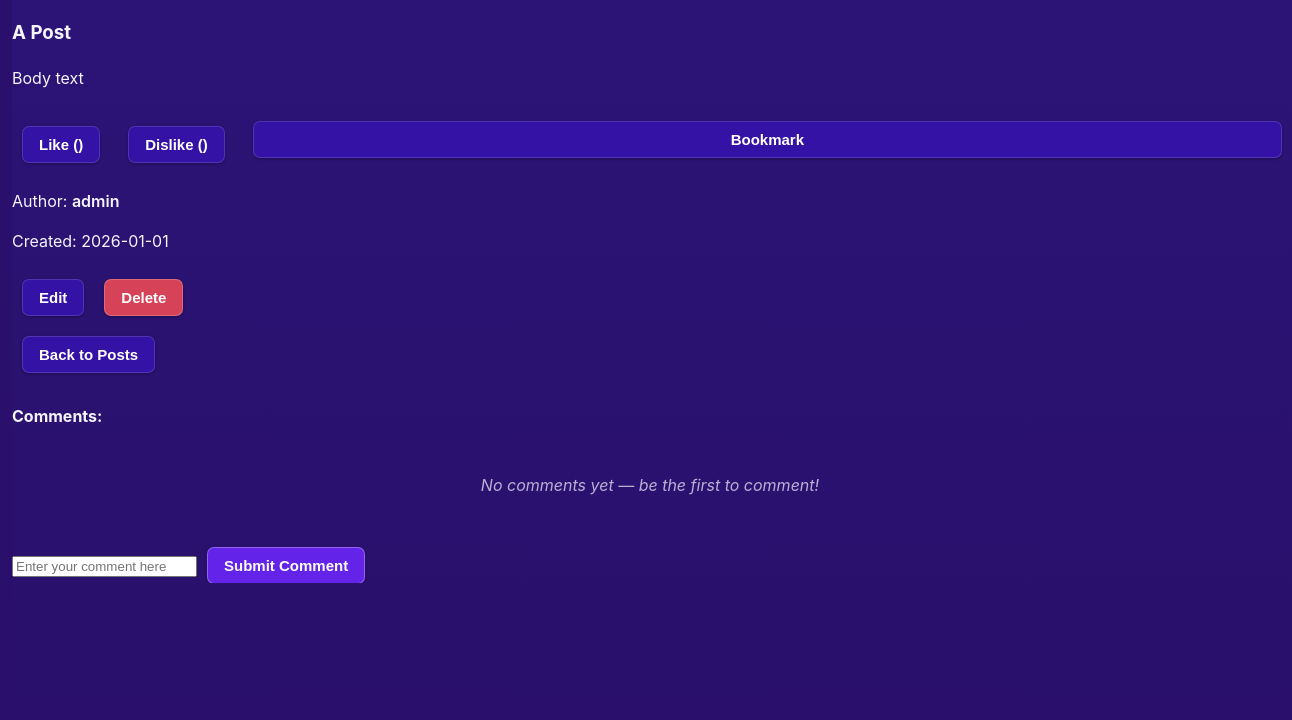
SinglePostView › toggling Edit shows the edit form instead of the read-only view
The image size is (1292, 720).
Click the button "Edit" at (53, 297), box [22,278,84,316]
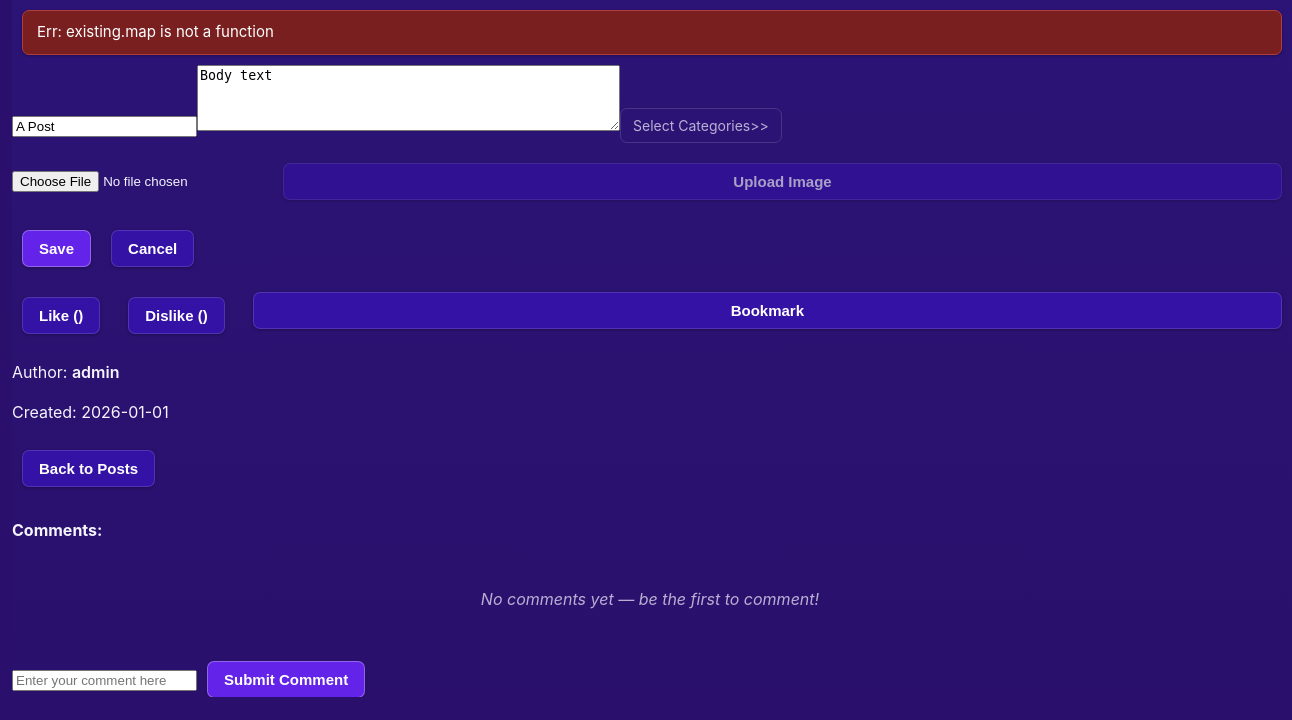
Result: the field showing "A Post" is shown at [12,116,197,136]
Result: the text box showing "Body text" is shown at [197,64,620,130]
